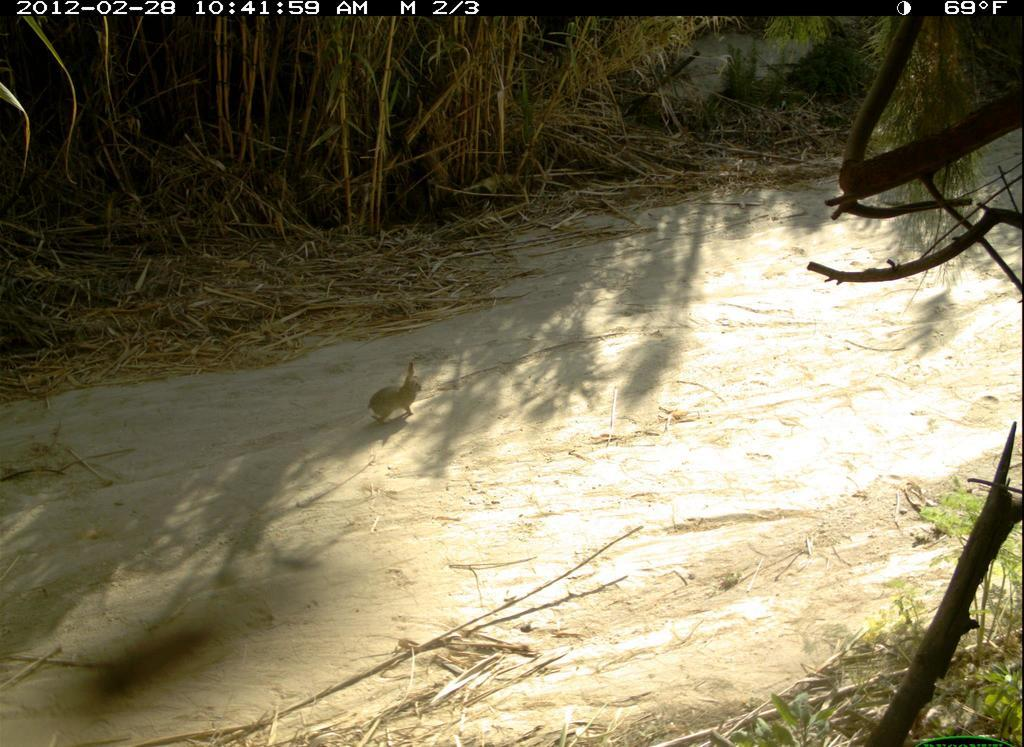rabbit: (361, 347, 428, 446)
